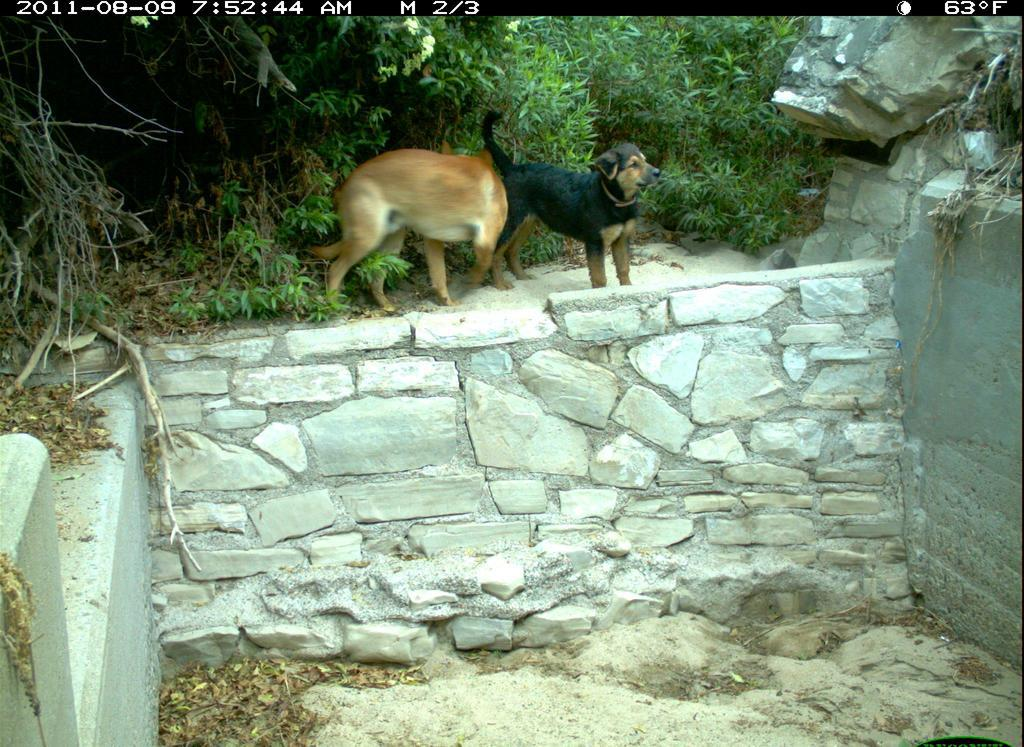dog: (303, 132, 519, 321), (478, 102, 671, 296)
